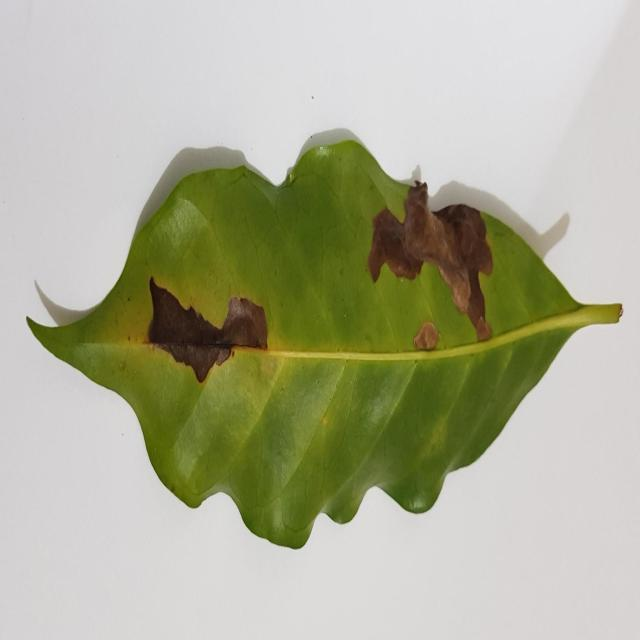Plaga-Minador: (24, 140, 624, 551)
